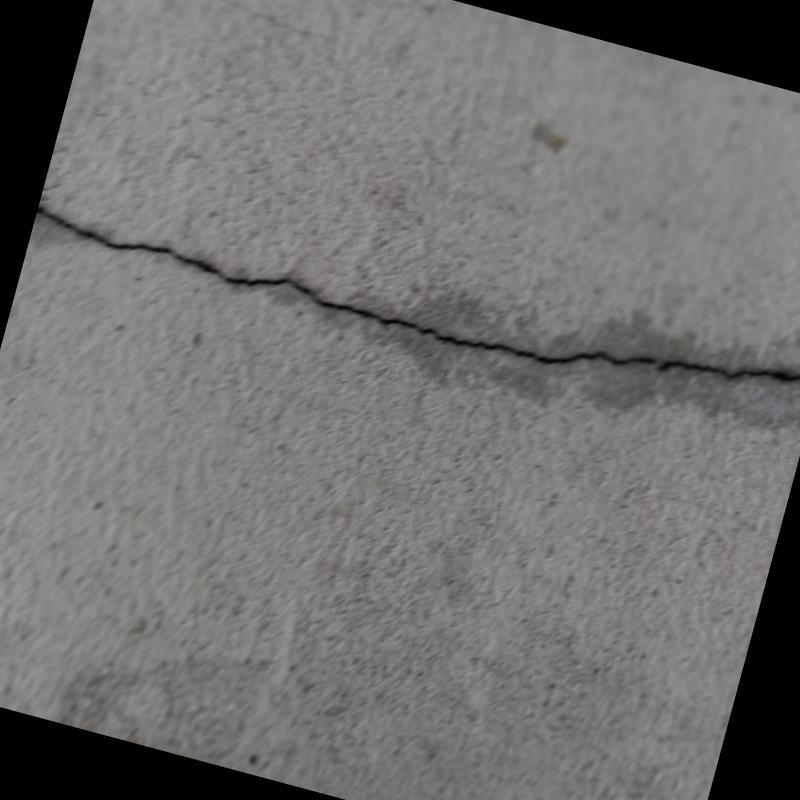crack: (33, 189, 800, 408)
